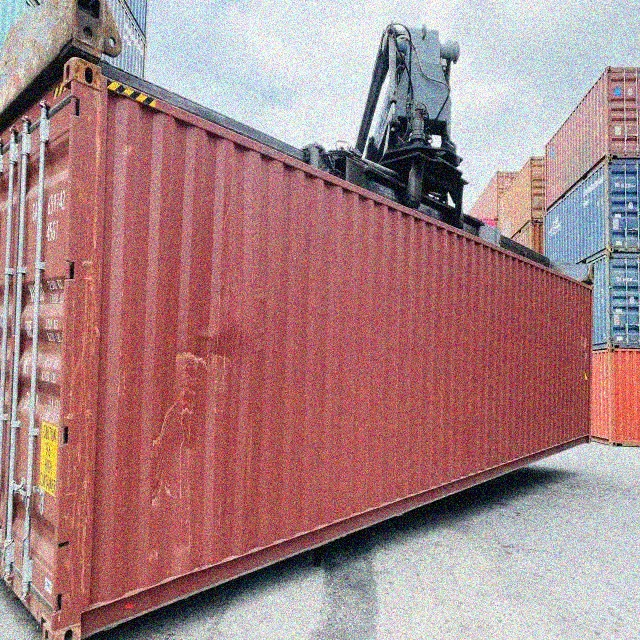Dent: (154, 286, 263, 461)
